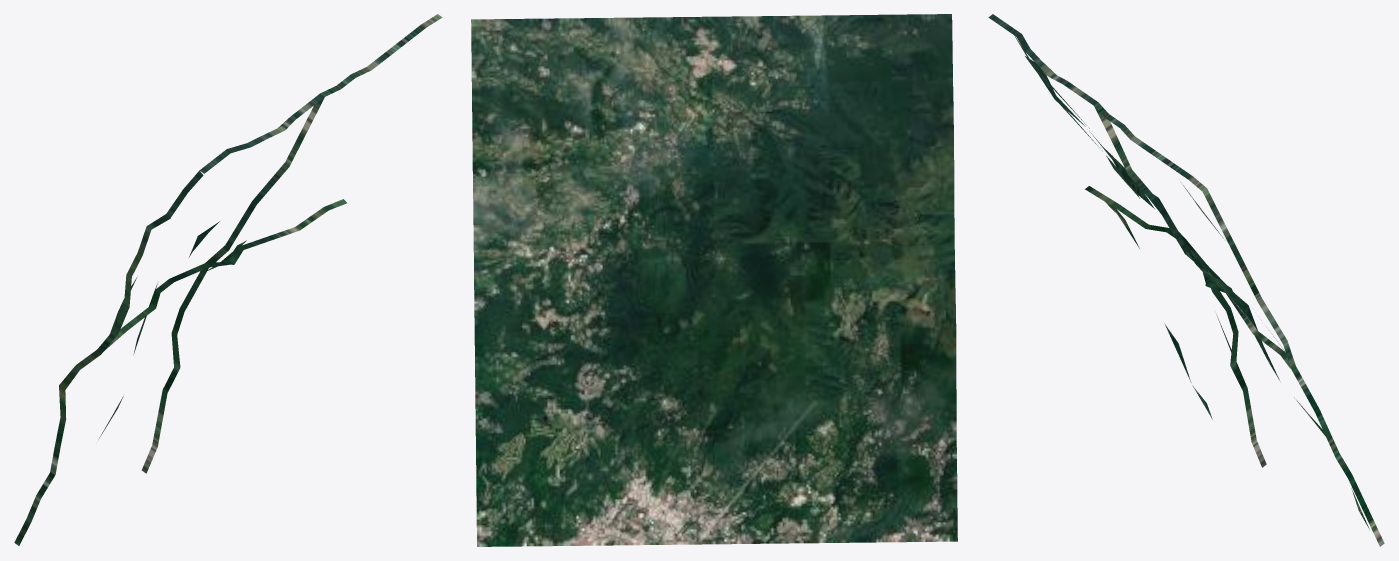
3 renders of one model, left to right at view 1: azimuth 30°, elevation 25°; view 2: azimuth 150°, elevation 25°; view 3: azimuth 270°, elevation 25°, orthographic. The views are drawn at different scales.
Bounding box in the file's own units: 9995 × 9123 × 7913.
Materials: 1 (1 with a texture image).
